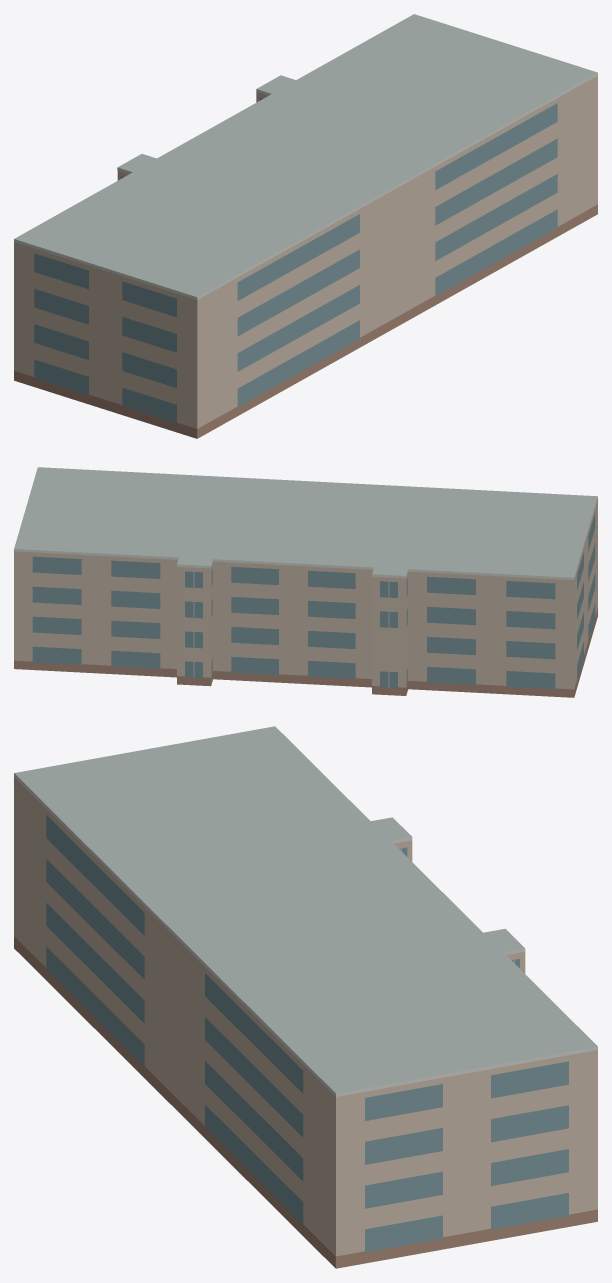
The model's file is residential-efd093b1-533b-4a95-a30e-4935df9dfbc5.glb.
3 renders of one model, top to bottom at view 1: azimuth 30°, elevation 25°; view 2: azimuth 150°, elevation 25°; view 3: azimuth 270°, elevation 25°, orthographic. The views are drawn at different scales.
Parts seen in each view (by area): view 1: residential-efd093b1-533b-4a95-a30e-4935df9dfbc5.tmp; view 2: residential-efd093b1-533b-4a95-a30e-4935df9dfbc5.tmp; view 3: residential-efd093b1-533b-4a95-a30e-4935df9dfbc5.tmp.
Boxes of the visible parts, x1,y1,x2,y2 form: residential-efd093b1-533b-4a95-a30e-4935df9dfbc5.tmp: (14,14,597,438); residential-efd093b1-533b-4a95-a30e-4935df9dfbc5.tmp: (14,467,597,697); residential-efd093b1-533b-4a95-a30e-4935df9dfbc5.tmp: (14,726,597,1268).
Size of the model in its own units: 54.84 by 12.2 by 36.85.
